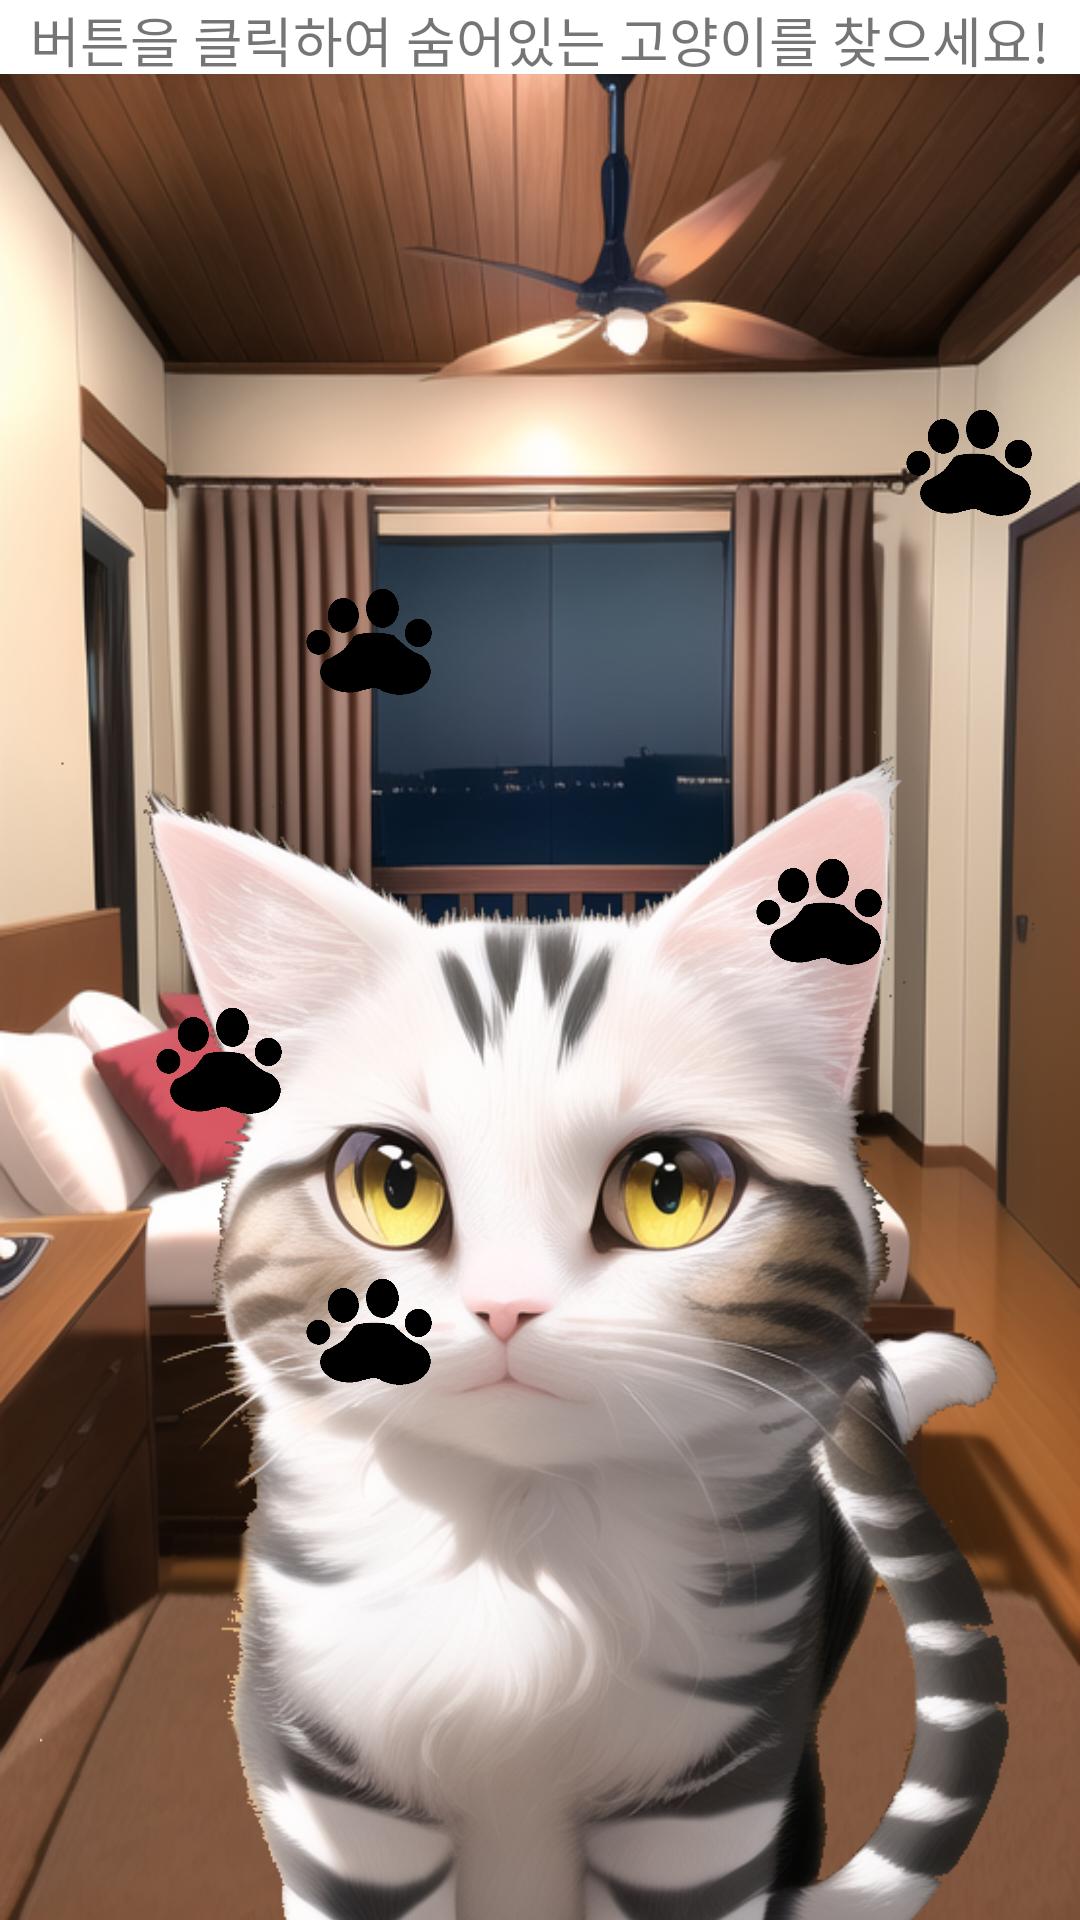

Icon click points for this 1080×1920 phone screenshot, format point (x, y):
cathand: point (975, 436), point (375, 615), point (825, 885), point (225, 1034), point (375, 1305)
